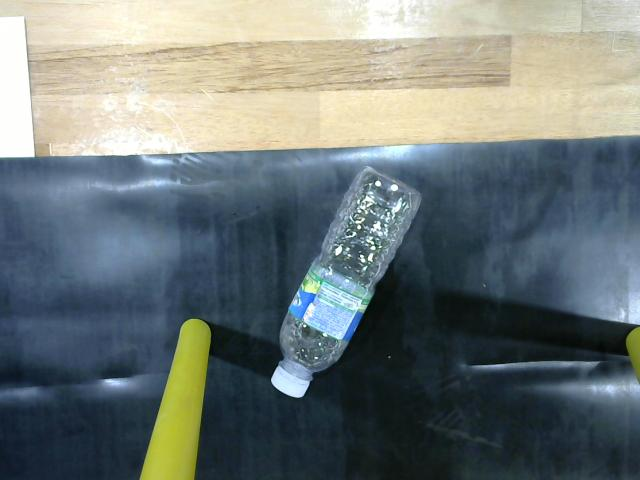bottle: (261, 154, 439, 409)
